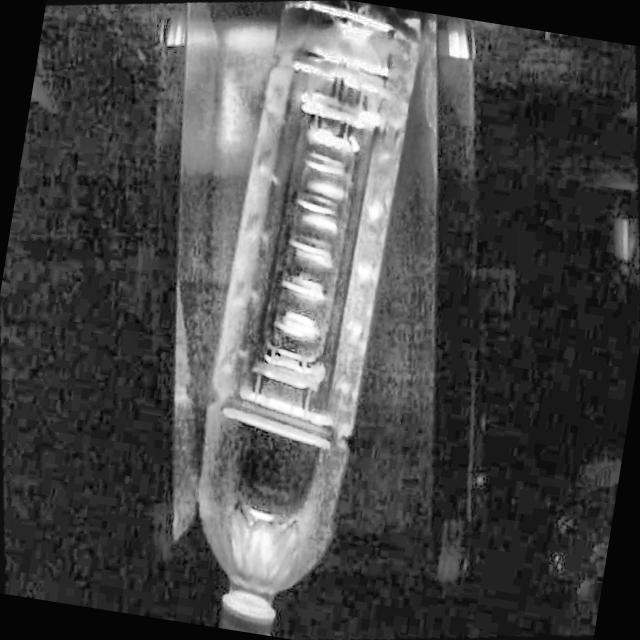plastic bottle: (199, 1, 423, 635)
